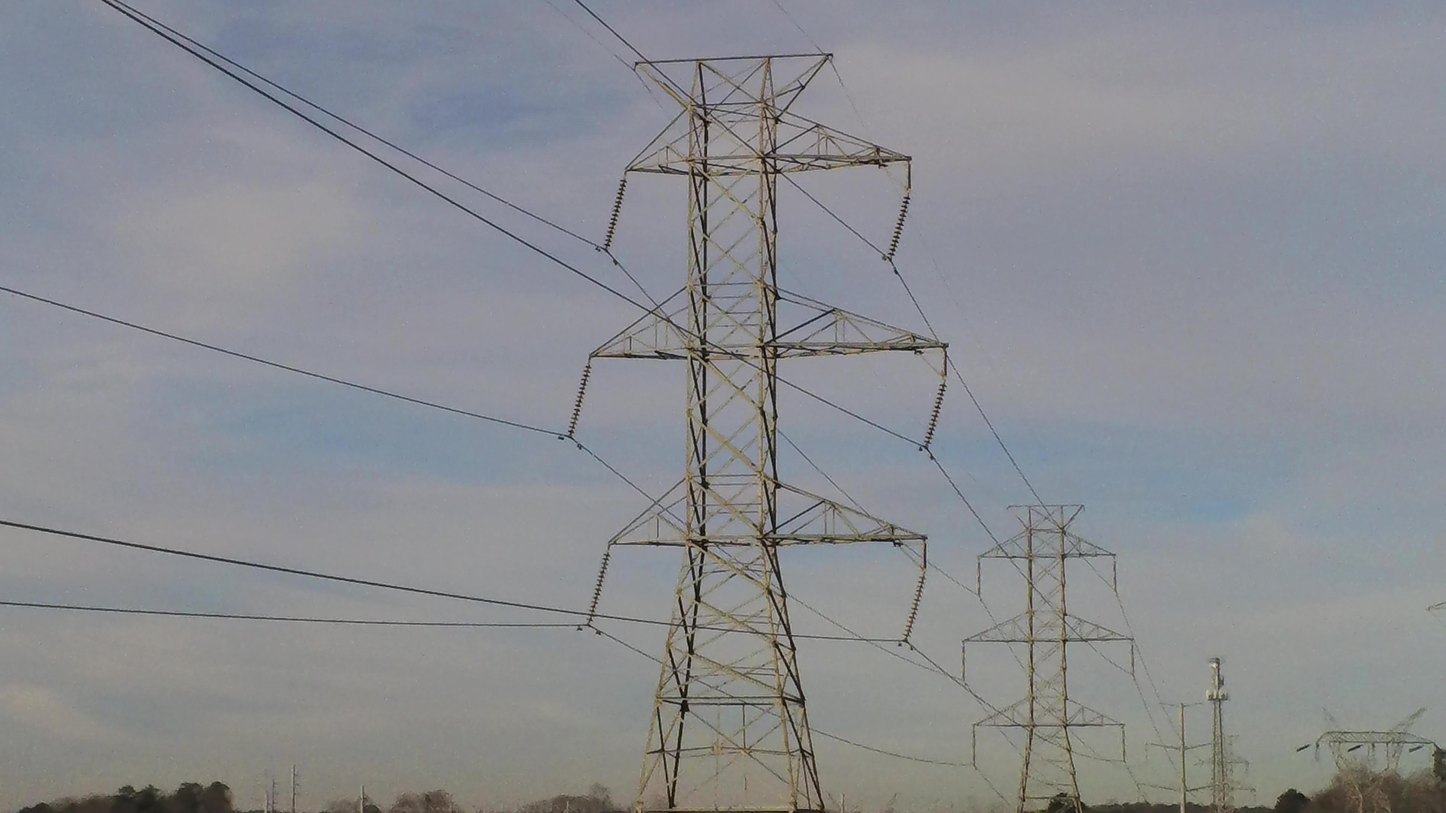power_tower: (562, 53, 949, 813), (961, 502, 1135, 810), (1295, 707, 1435, 812), (1196, 733, 1255, 812)
